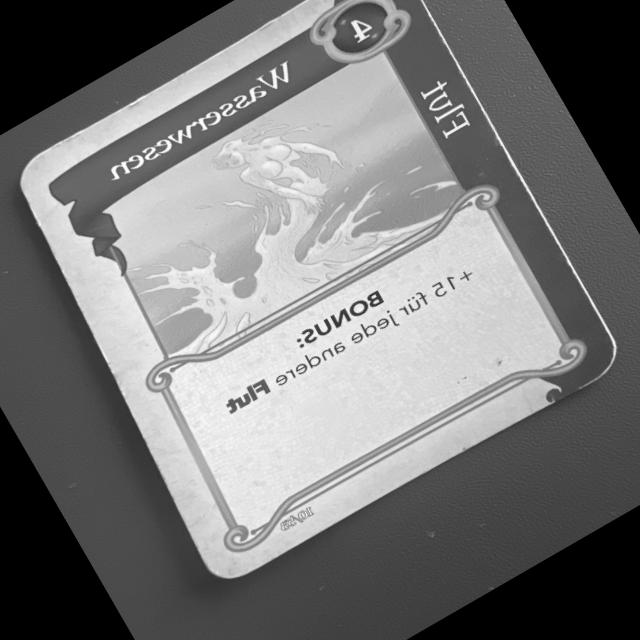Water Elemental: (4, 0, 633, 599)
